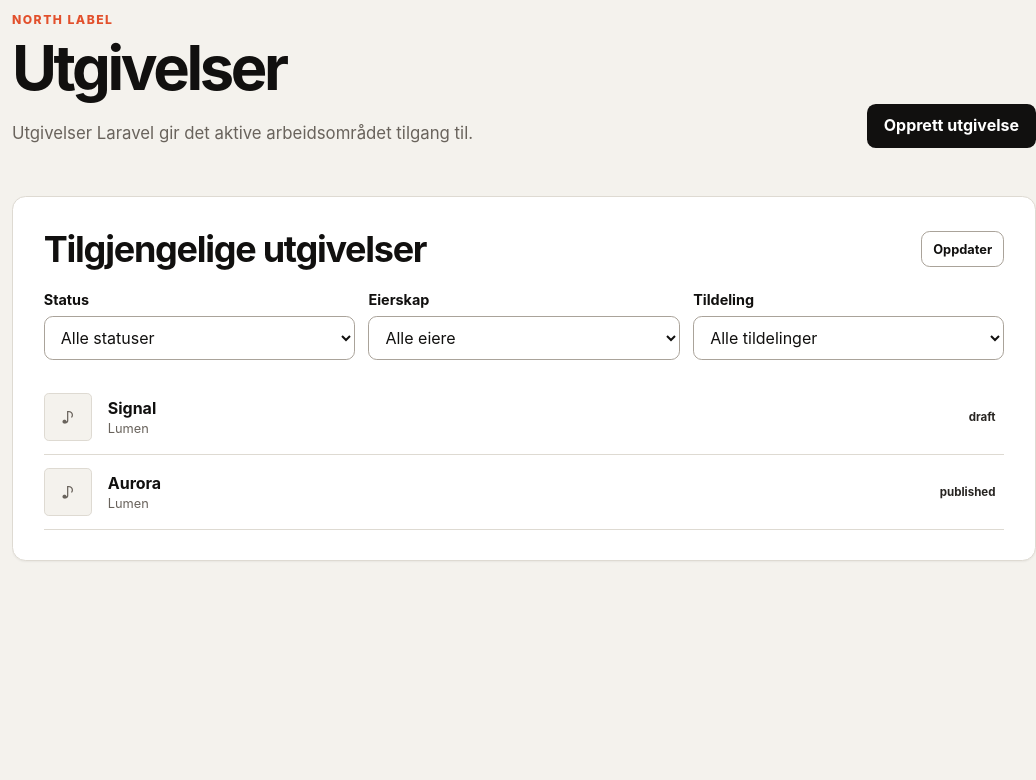
Scenario: ReleasesPage › filters the visible release list by ownership and assignment
Expected: the text "Signal" is shown, 108,398 -> 156,418
Expected: the text "Aurora" is shown, 108,473 -> 161,493
Select "Artist-eide" in the dropdown labelled "Eierskap" at (524, 338), box 368,316 -> 680,360
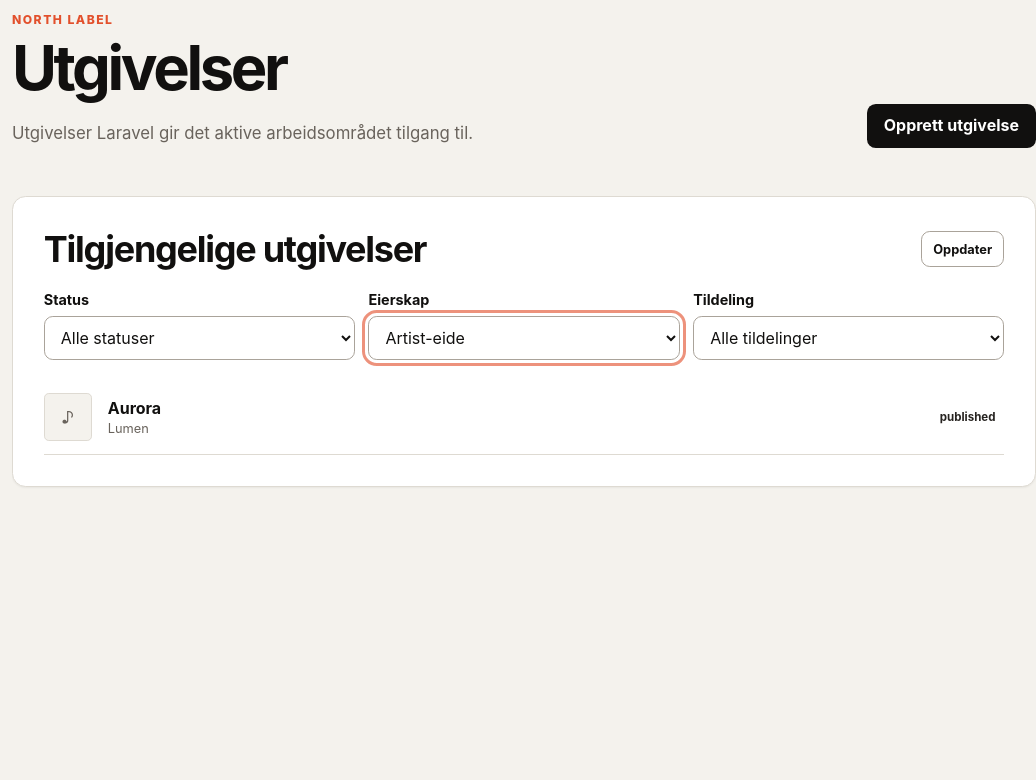
Expected: the text "Aurora" is shown, 108,398 -> 161,418
Expected: the link "Signal" is gone
Select "Ikke tildelt meg" in the dropdown labelled "Tildeling" at (849, 338), box 693,316 -> 1004,360
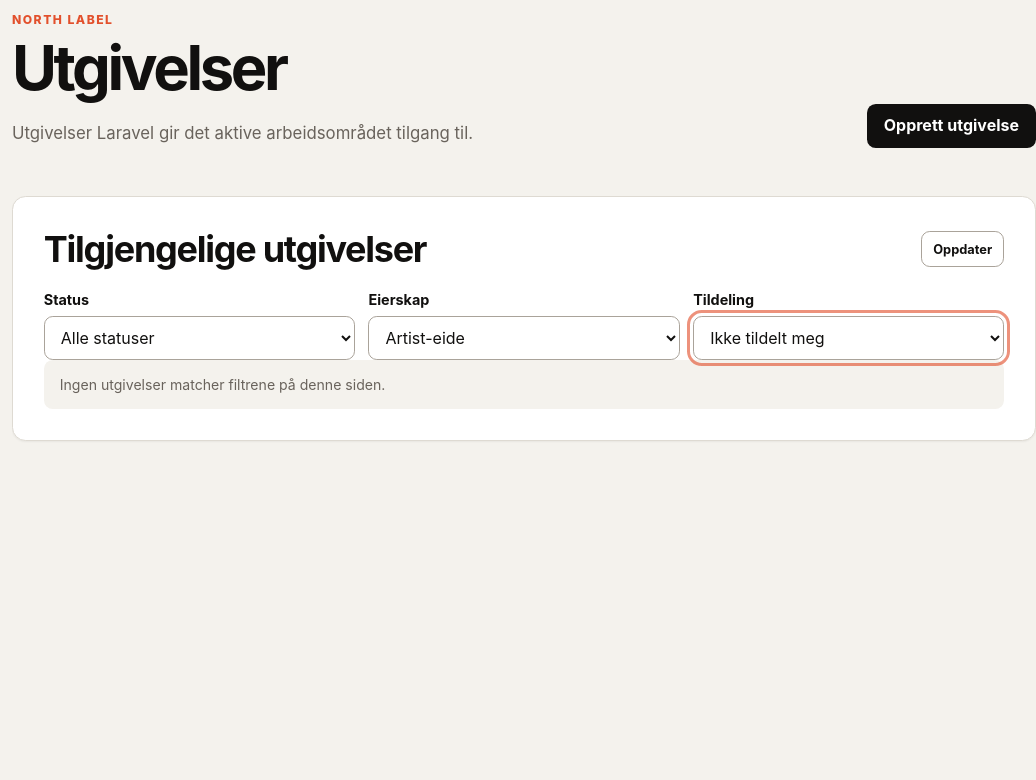
Expected: the text "Ingen utgivelser matcher filtrene på denne siden." is shown, 44,360 -> 1004,409
